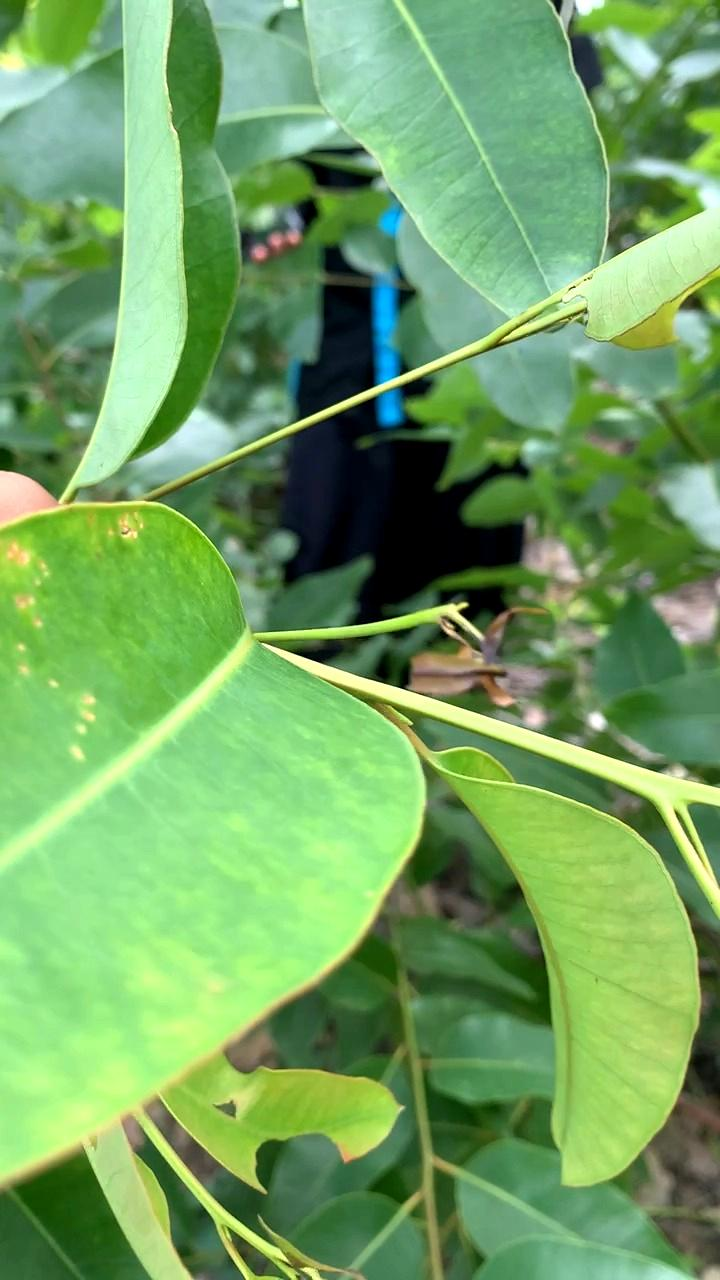Helopeltis-Withered Sprout: (393, 578, 597, 743)
